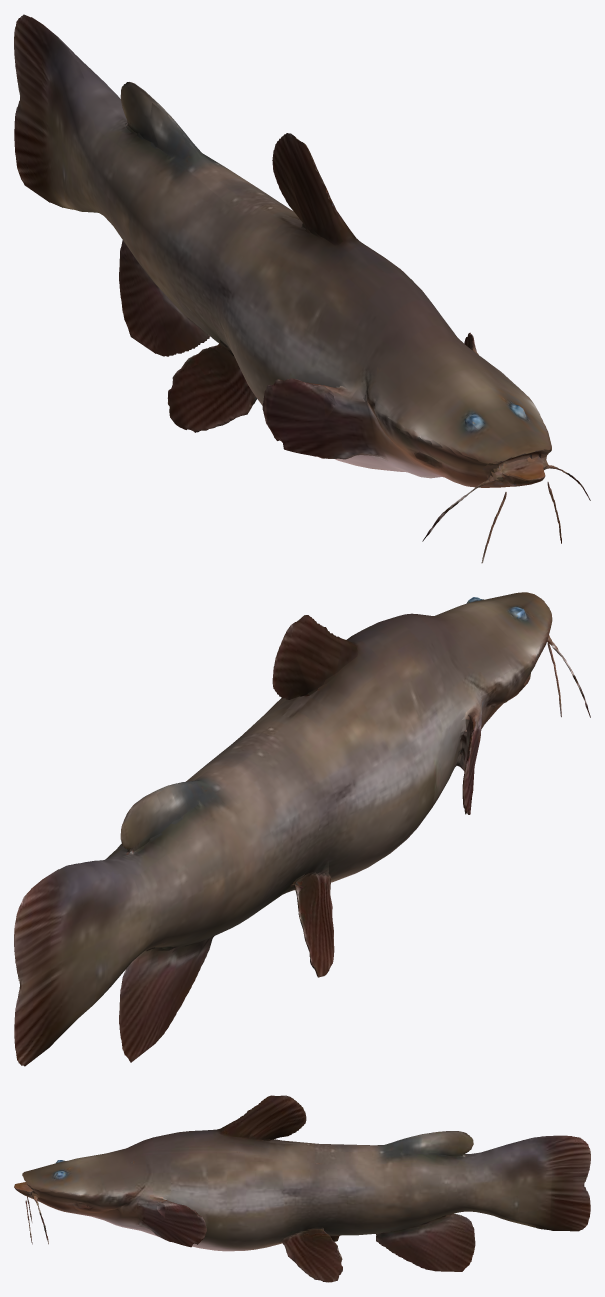
The model's file is flathead.glb.
3 renders of one model, top to bottom at view 1: azimuth 30°, elevation 25°; view 2: azimuth 150°, elevation 25°; view 3: azimuth 270°, elevation 25°, orthographic. The views are drawn at different scales.
Parts seen in each view (by area): view 1: model_0; view 2: model_0; view 3: model_0.
Boxes of the visible parts, x1,y1,x2,y2 form: model_0: [14, 14, 590, 563]; model_0: [14, 592, 590, 1066]; model_0: [14, 1095, 590, 1282].
Size of the model in its own units: 0.4201 by 0.6413 by 1.9.
1 material, 1 textured.
